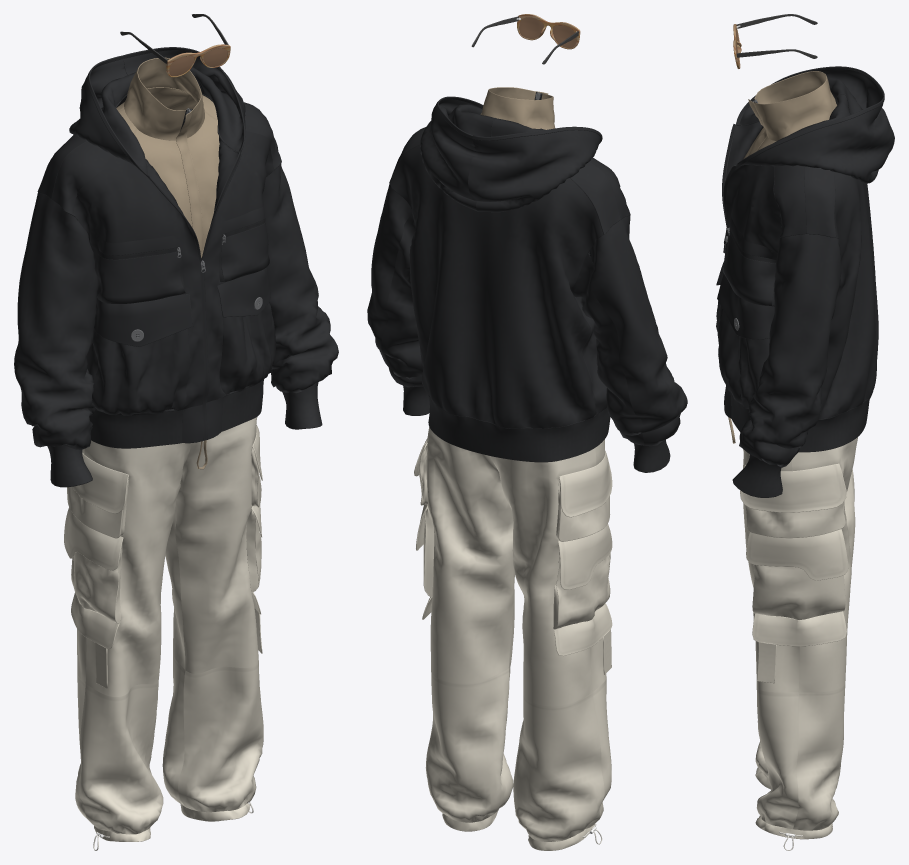
File: sweatshirt_and_jacket_and_workwear_pants.glb
The picture shows the model from 3 angles, left to right: view 1: azimuth 30°, elevation 25°; view 2: azimuth 150°, elevation 25°; view 3: azimuth 270°, elevation 25°; orthographic projection. The views are drawn at different scales.
Parts seen in each view (by area): view 1: Object_35, Object_30, Object_31, Object_29, Object_26, Object_28, Object_32, Object_34, Object_33, Object_20, Object_25, Object_24 (+5 smaller); view 2: Object_29, Object_25, Object_26, Object_30, Object_28, Object_34, Object_31, Object_33, Object_35, Object_32, Object_24, Object_27 (+3 smaller); view 3: Object_31, Object_29, Object_25, Object_35, Object_33, Object_30, Object_28, Object_24, Object_21, Object_20, Object_34, Object_27 (+4 smaller).
Part boxes in pixels (bbox=[...]): Object_35: bbox=[67, 251, 263, 841]; Object_30: bbox=[72, 328, 263, 696]; Object_31: bbox=[51, 57, 338, 443]; Object_29: bbox=[14, 94, 261, 570]; Object_26: bbox=[75, 417, 258, 828]; Object_28: bbox=[73, 125, 274, 415]; Object_32: bbox=[37, 99, 219, 487]; Object_34: bbox=[69, 76, 269, 819]; Object_33: bbox=[90, 50, 245, 535]; Object_20: bbox=[96, 109, 270, 469]; Object_25: bbox=[162, 502, 192, 809]; Object_24: bbox=[71, 108, 261, 623]; Object_29: bbox=[389, 145, 687, 589]; Object_25: bbox=[425, 427, 514, 822]; Object_26: bbox=[490, 448, 604, 841]; Object_30: bbox=[414, 394, 612, 691]; Object_28: bbox=[381, 213, 644, 445]; Object_34: bbox=[421, 130, 611, 831]; Object_31: bbox=[367, 87, 630, 415]; Object_33: bbox=[420, 99, 560, 539]; Object_35: bbox=[419, 443, 611, 850]; Object_32: bbox=[536, 91, 670, 472]; Object_24: bbox=[423, 507, 610, 629]; Object_27: bbox=[417, 512, 612, 656]; Object_31: bbox=[716, 71, 841, 497]; Object_29: bbox=[746, 102, 878, 580]; Object_25: bbox=[791, 437, 857, 830]; Object_35: bbox=[723, 228, 845, 837]; Object_33: bbox=[739, 69, 894, 183]; Object_30: bbox=[716, 301, 871, 512]; Object_28: bbox=[718, 120, 839, 461]; Object_24: bbox=[752, 564, 845, 619]; Object_21: bbox=[736, 66, 884, 237]; Object_20: bbox=[717, 99, 776, 443]; Object_34: bbox=[722, 108, 892, 839]; Object_27: bbox=[752, 104, 846, 646].
Size of the model in its own units: 671 by 1699 by 353.
Materials: 21 (3 with a texture image).
